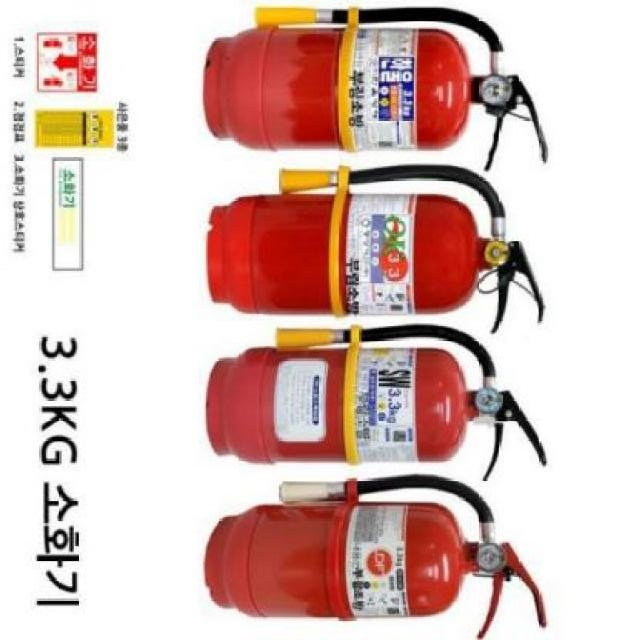fire extinguisher: (206, 162, 545, 335), (203, 472, 548, 640), (203, 6, 549, 171), (206, 322, 549, 481)
